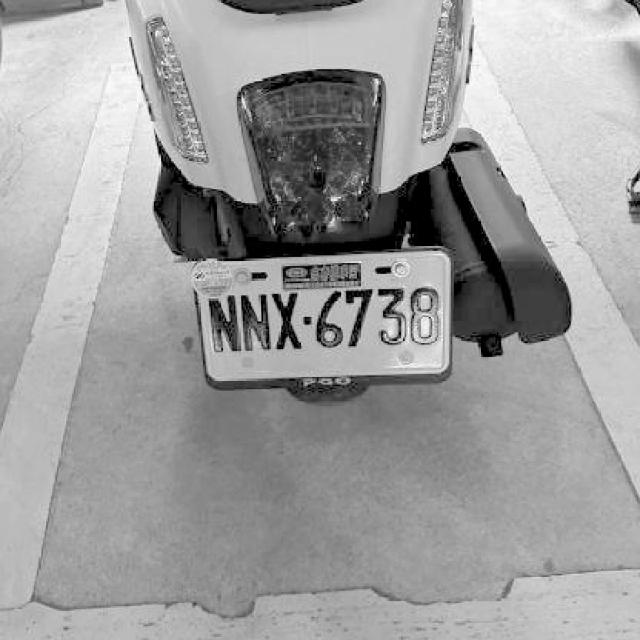3: (374, 285, 404, 346)
6: (314, 286, 346, 349)
7: (343, 284, 374, 348)
8: (409, 282, 440, 343)
K: (270, 291, 304, 352)
M: (237, 292, 272, 354)
N: (206, 292, 245, 354)
